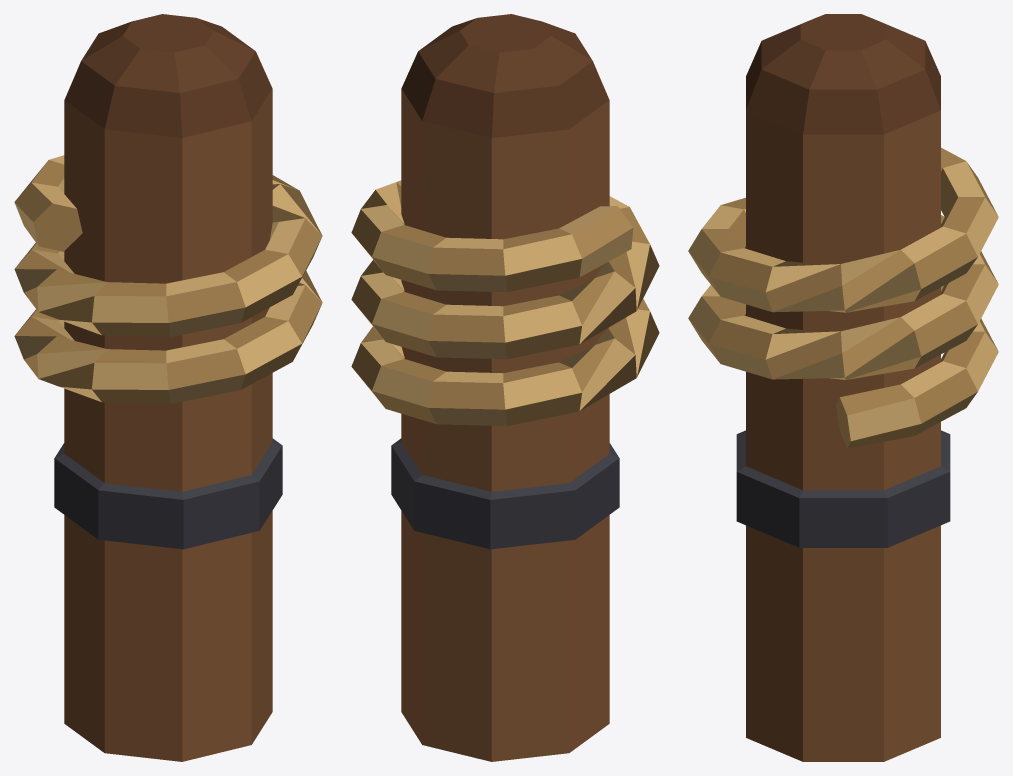
Rendered from rope_post.glb.
3 renders of one model, left to right at view 1: azimuth 30°, elevation 25°; view 2: azimuth 150°, elevation 25°; view 3: azimuth 270°, elevation 25°, orthographic.
Visible parts, largest first — view 1: rope_post; view 2: rope_post; view 3: rope_post.
Boxes of the visible parts, x1,y1,x2,y2 form: rope_post: (14, 14, 322, 761); rope_post: (351, 14, 659, 761); rope_post: (688, 14, 998, 761).
Bounding box in the file's own units: 0.3619 × 0.9 × 0.368.
Materials: 1 (1 with a texture image).
